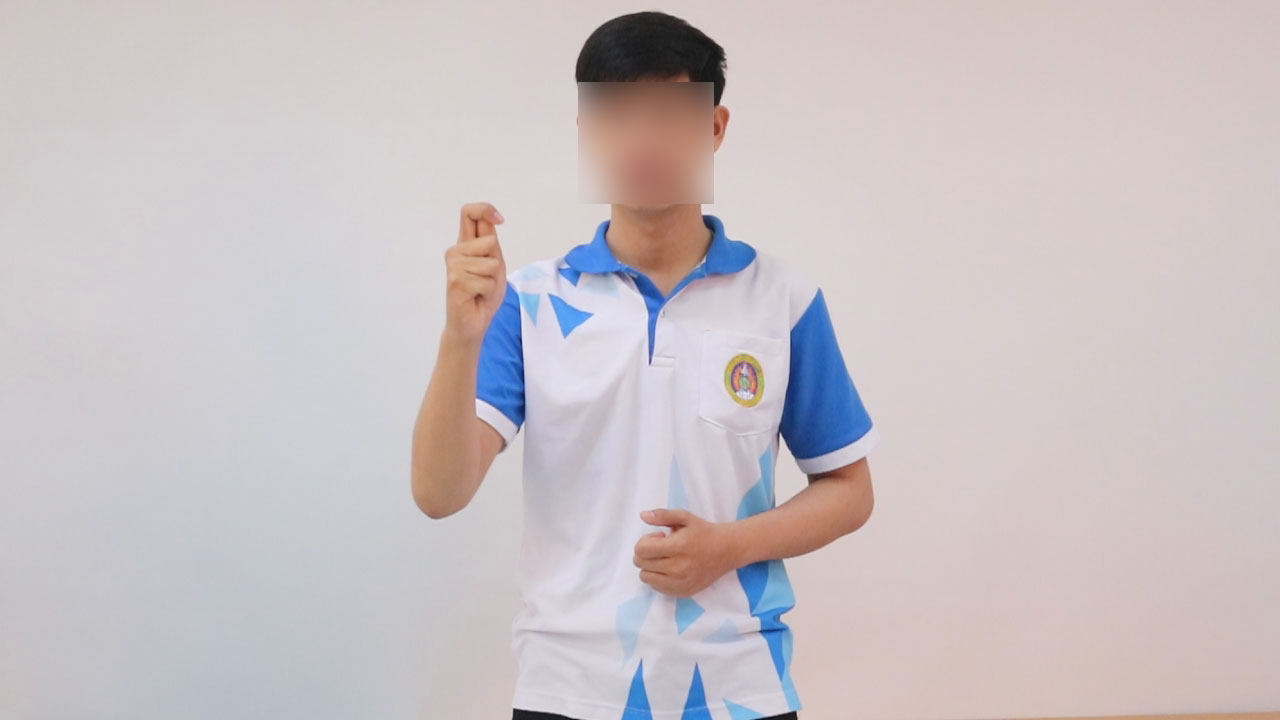or: (439, 198, 513, 339)
